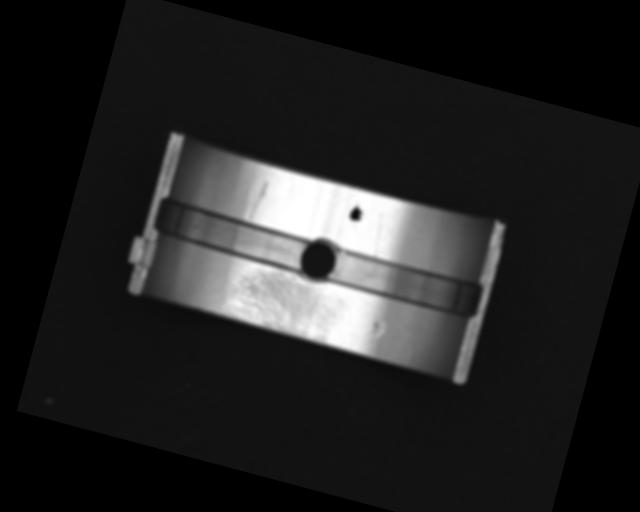blot: (346, 200, 366, 223)
bruise: (370, 320, 386, 339)
gap: (326, 244, 484, 320), (150, 197, 308, 272)
hole: (294, 231, 342, 286)
nick: (241, 176, 271, 222), (368, 214, 387, 257)
scratch: (220, 259, 352, 347)
